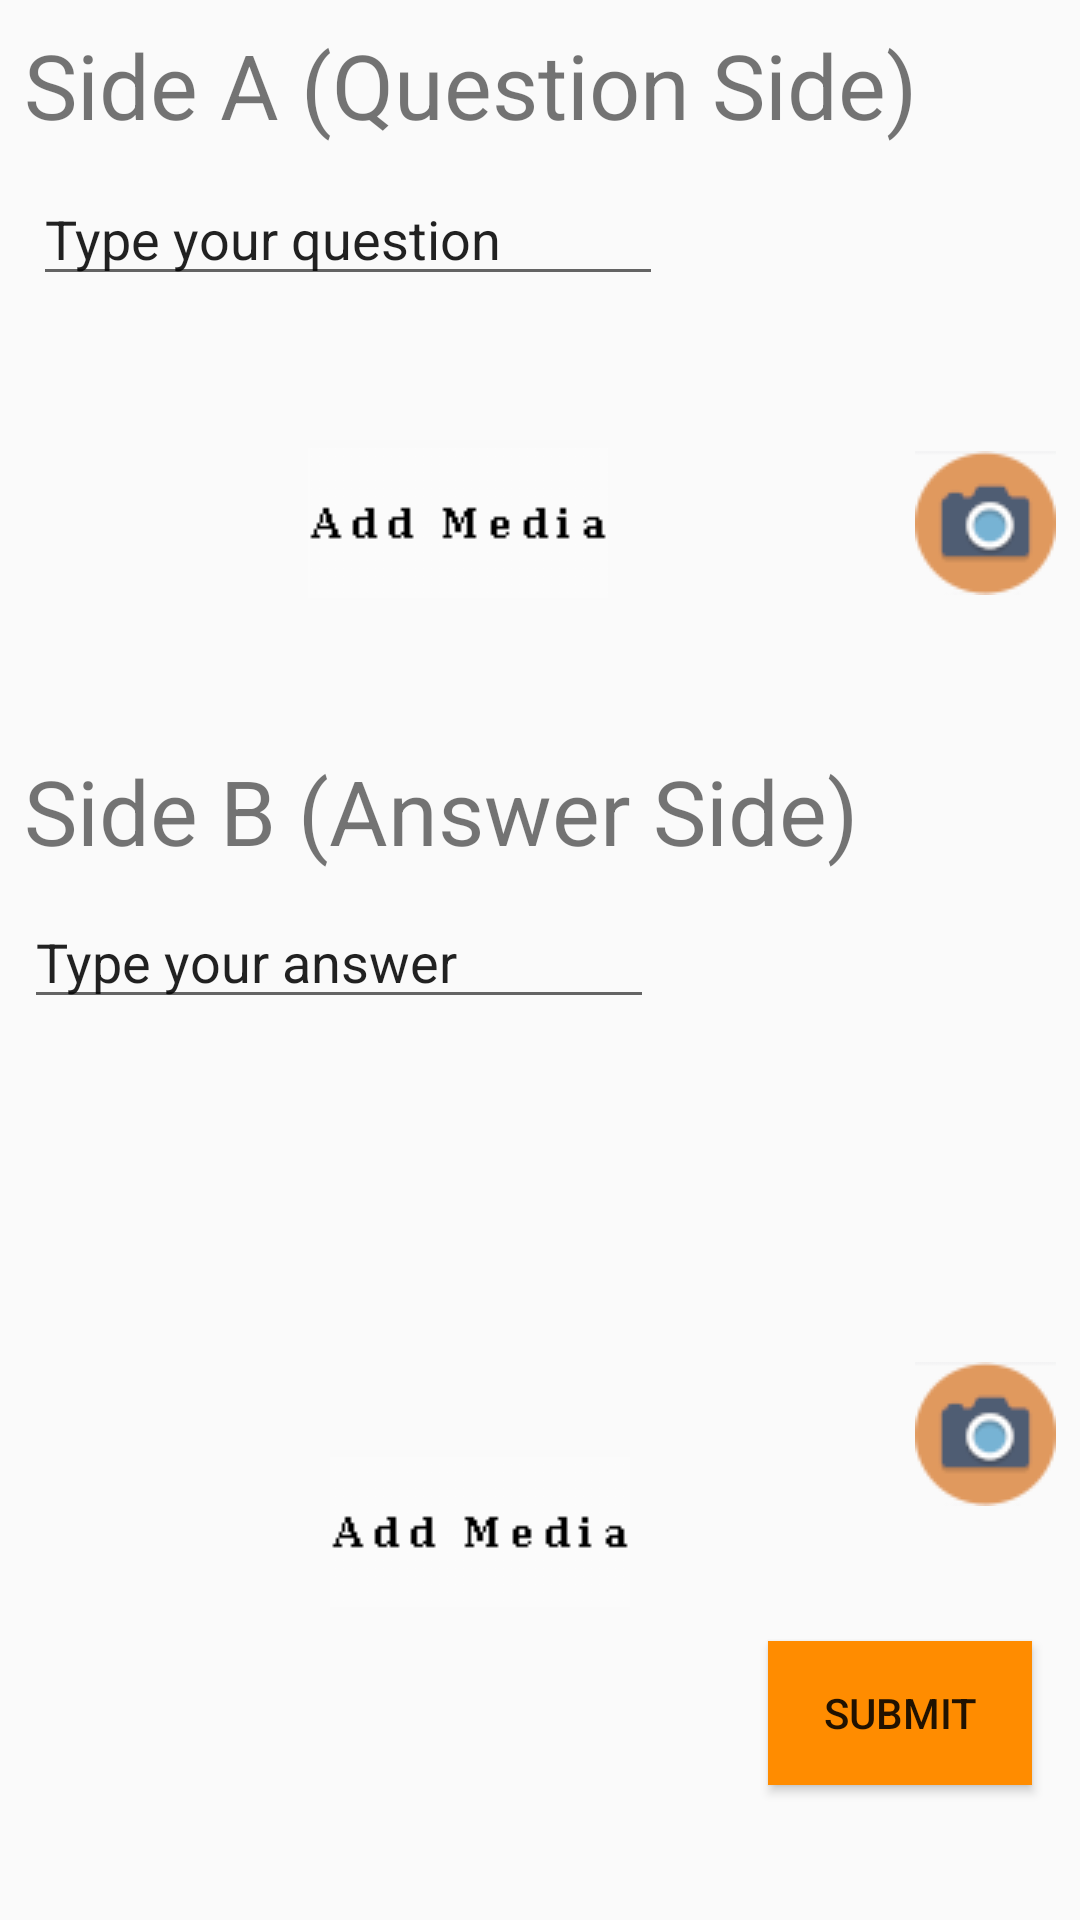

Named icons in this screenshot (1080px×1920px) and their centers, [x,y]:
camerasm: [985,523], [985,1434]
